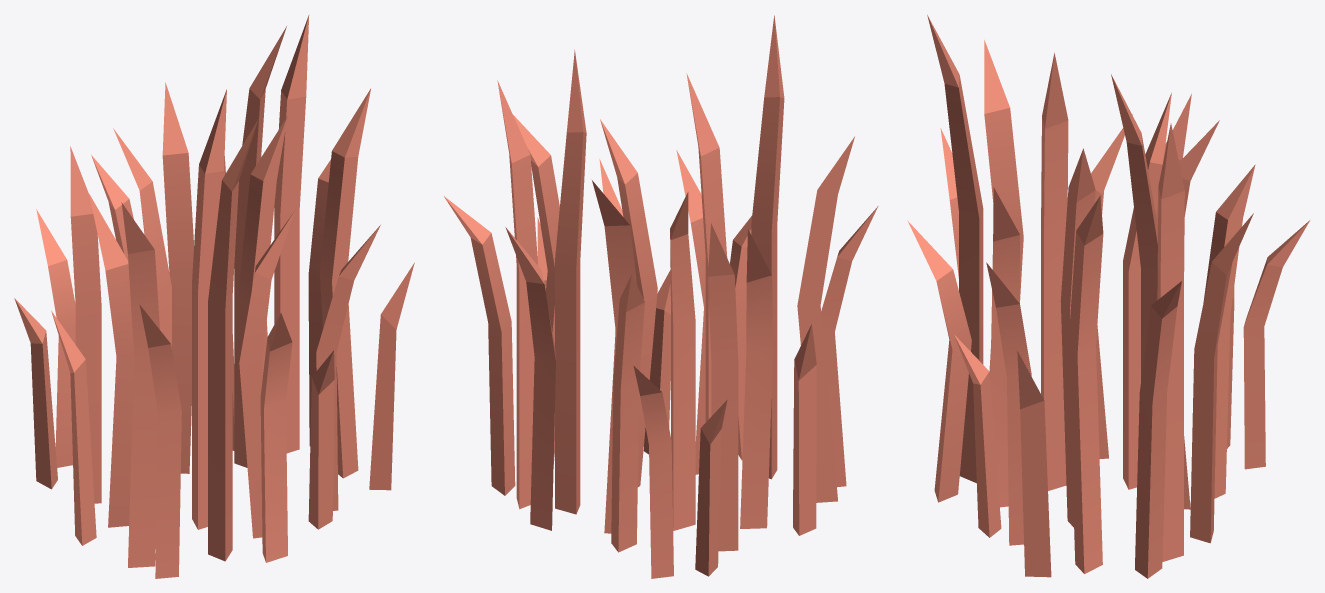
File: SM_Prop_Plant_Wheat_Optimised_03.fbx
3 views of the same model, side by side, from view 1: azimuth 30°, elevation 25°; view 2: azimuth 150°, elevation 25°; view 3: azimuth 270°, elevation 25° (orthographic). The views are drawn at different scales.
Visible parts, largest first — view 1: SM_Prop_Plant_Wheat_Optimised_03; view 2: SM_Prop_Plant_Wheat_Optimised_03; view 3: SM_Prop_Plant_Wheat_Optimised_03.
Boxes of the visible parts, box(x1,y1,x2,y2) form: SM_Prop_Plant_Wheat_Optimised_03: box(14, 14, 414, 578); SM_Prop_Plant_Wheat_Optimised_03: box(444, 15, 878, 578); SM_Prop_Plant_Wheat_Optimised_03: box(907, 15, 1309, 578).
Size of the model in its own units: 0.746 by 0.9449 by 0.7334.
Materials: 1 (1 with a texture image).
